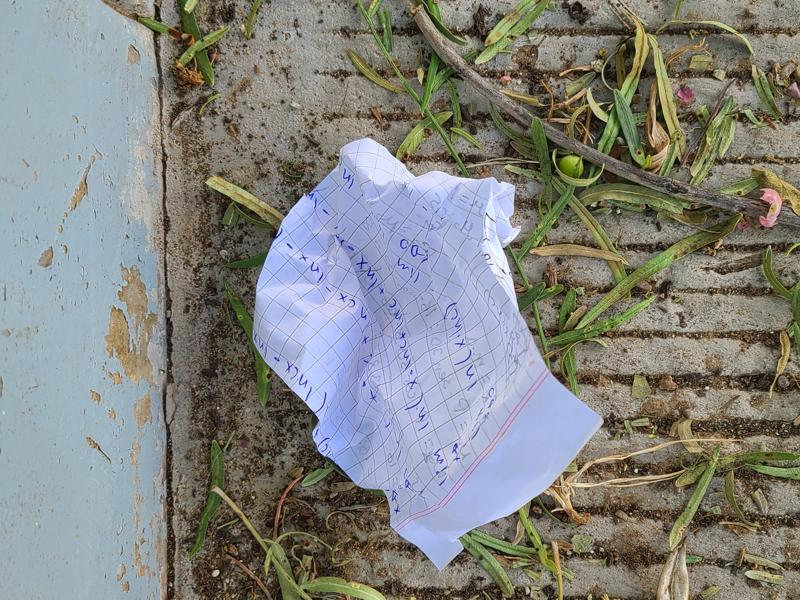papel: (250, 140, 604, 571)
